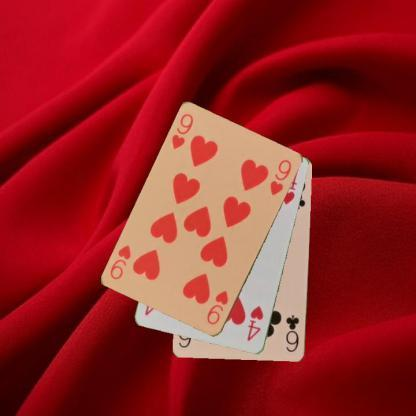4h: (245, 303, 266, 343)
6c: (283, 312, 301, 354)
9h: (168, 110, 194, 152), (204, 288, 230, 326)
